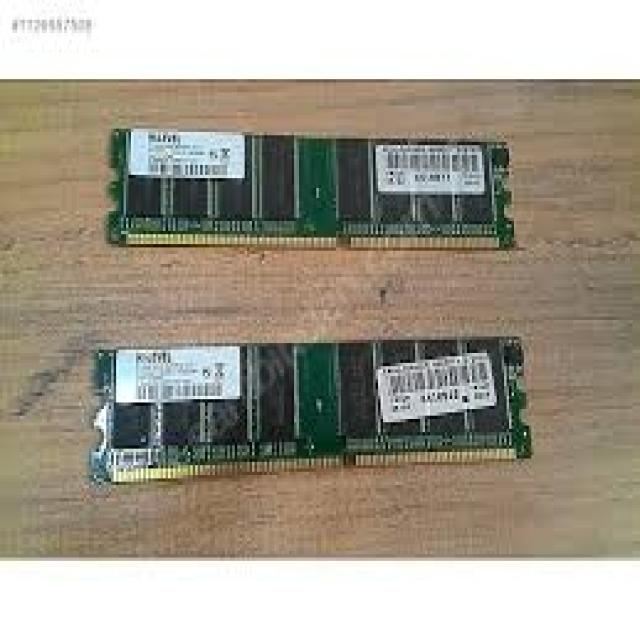Ram: (89, 109, 640, 534)
